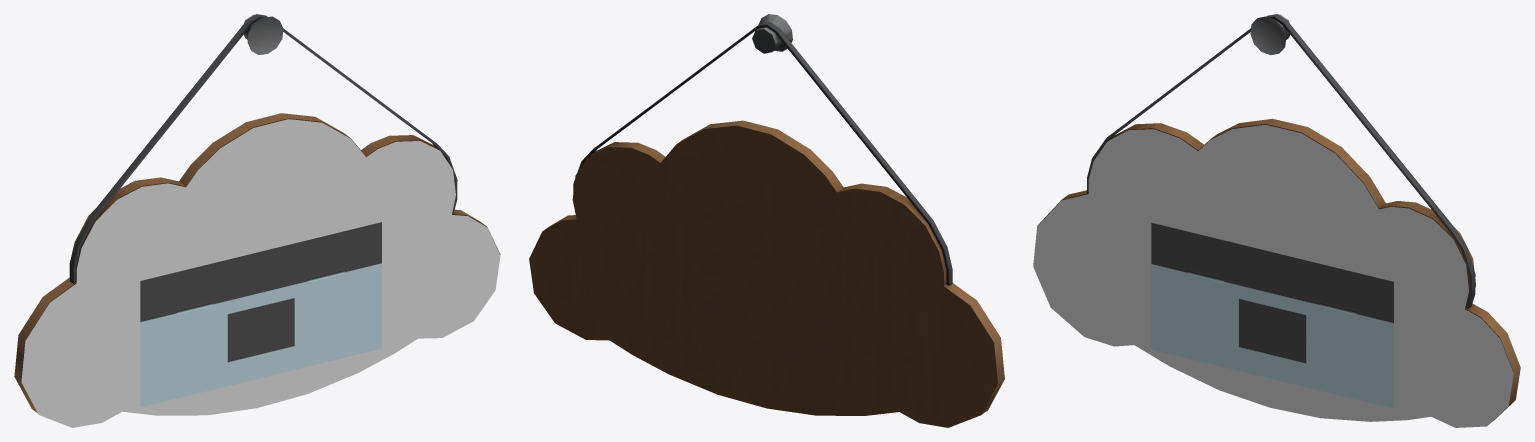
The model's file is espejo.fbx.
The picture shows the model from 3 angles, left to right: view 1: azimuth 30°, elevation 25°; view 2: azimuth 150°, elevation 25°; view 3: azimuth 330°, elevation 25°; orthographic projection. The views are drawn at different scales.
Parts seen in each view (by area): view 1: espejo, soporteVinilo; view 2: soporteVinilo; view 3: espejo, soporteVinilo.
Part boxes in pixels (x1,y1,x2,y2): espejo: (21, 119, 500, 427); soporteVinilo: (14, 14, 500, 413); soporteVinilo: (529, 14, 1004, 427); espejo: (1033, 124, 1513, 427); soporteVinilo: (1033, 14, 1520, 421).
Size of the model in its own units: 99.4 by 78.07 by 4.26.
2 materials, 1 textured.
